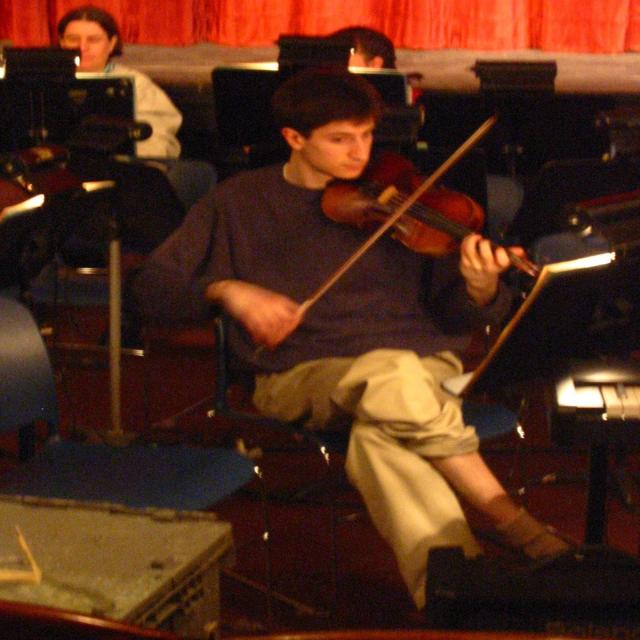violin: (315, 146, 548, 282)
